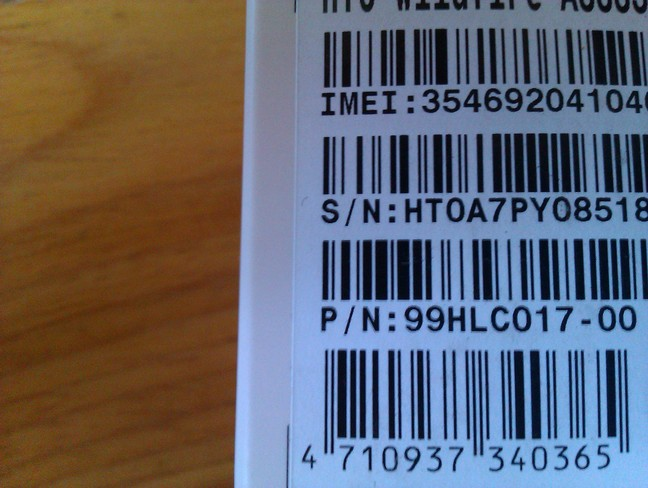detection: (288, 343, 639, 474)
